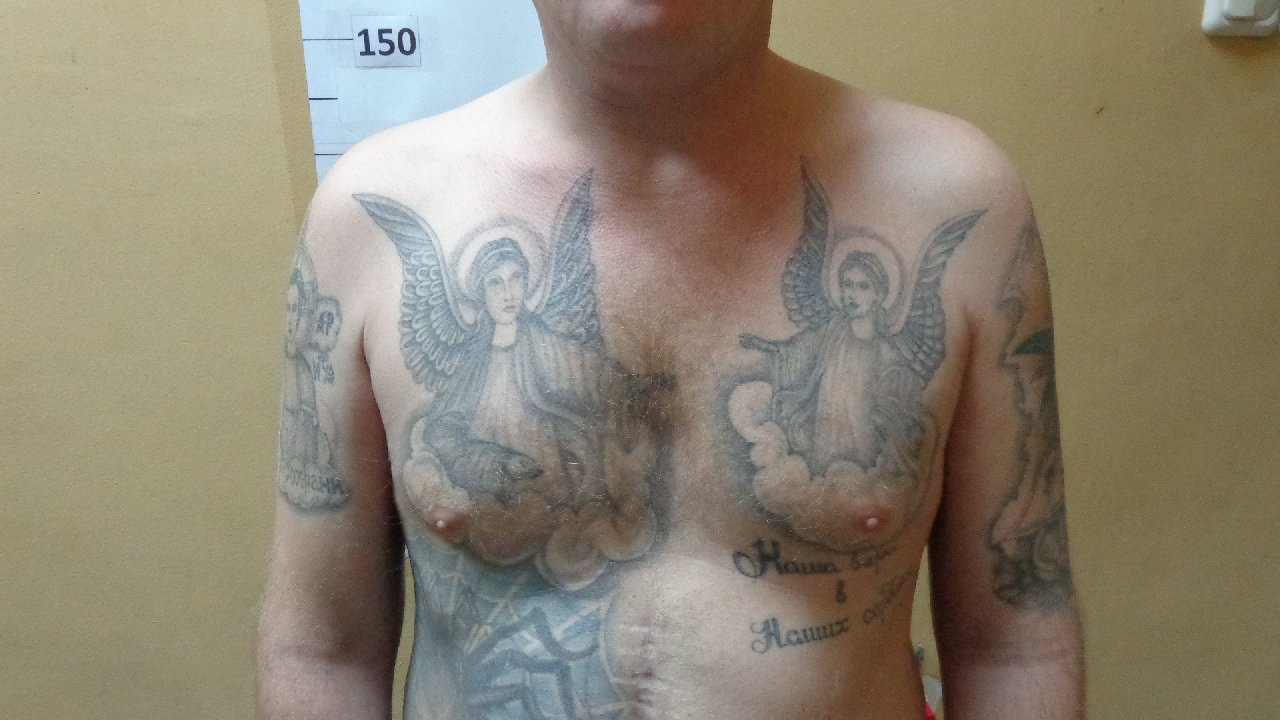tatu1_angel: (351, 191, 682, 563), (710, 150, 980, 519)
tatu3_bukva: (716, 535, 924, 661)
